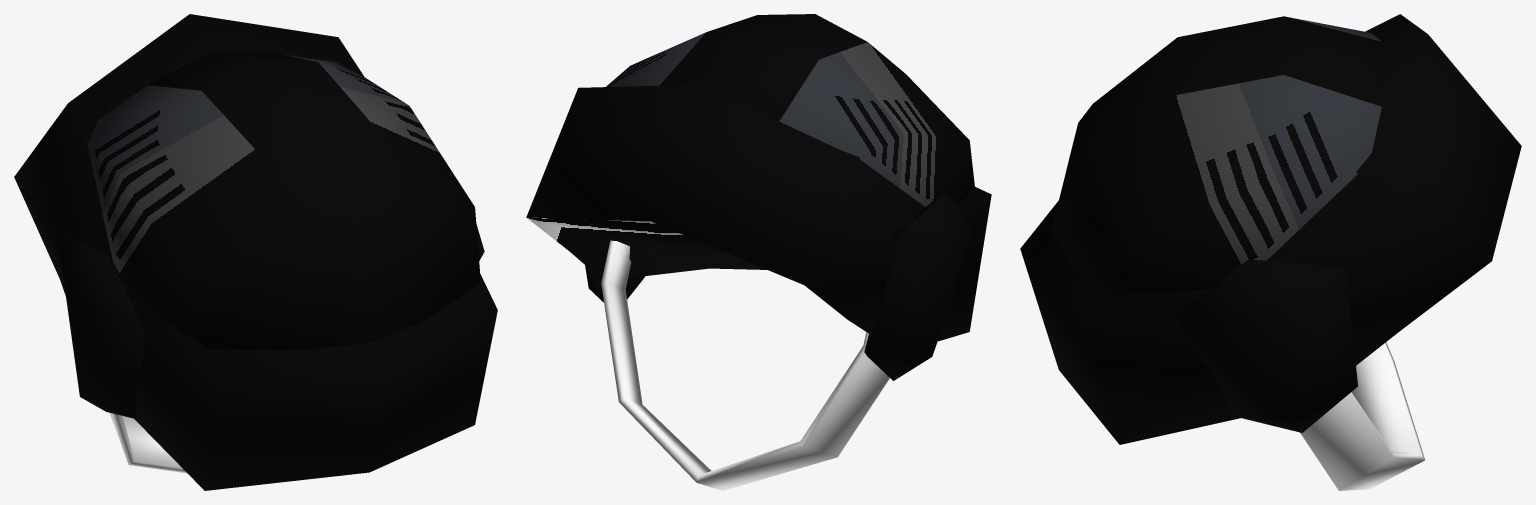
The model's file is helmet.fbx.
3 views of the same model, side by side, from view 1: azimuth 30°, elevation 25°; view 2: azimuth 150°, elevation 25°; view 3: azimuth 270°, elevation 25° (orthographic). The views are drawn at different scales.
Visible parts, largest first — view 1: hammerhelmet; view 2: hammerhelmet; view 3: hammerhelmet.
Part boxes in pixels (bbox=[...]): hammerhelmet: bbox=[14, 14, 497, 490]; hammerhelmet: bbox=[526, 14, 991, 490]; hammerhelmet: bbox=[1020, 14, 1521, 490].
Bounding box in the file's own units: 942 × 1028 × 1016.
Materials: 1 (1 with a texture image).
